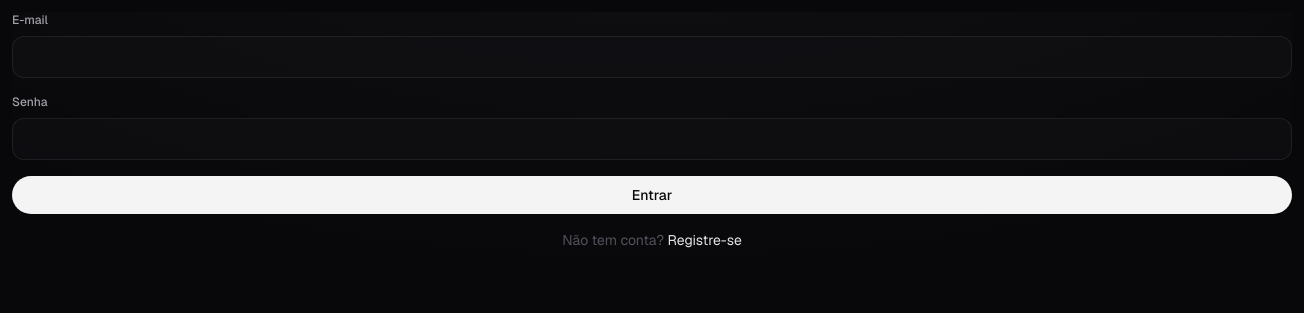
Test: LoginForm › exibe erros de validação para campos vazios
Click the button "Entrar" at (652, 195), box [12,176,1292,214]
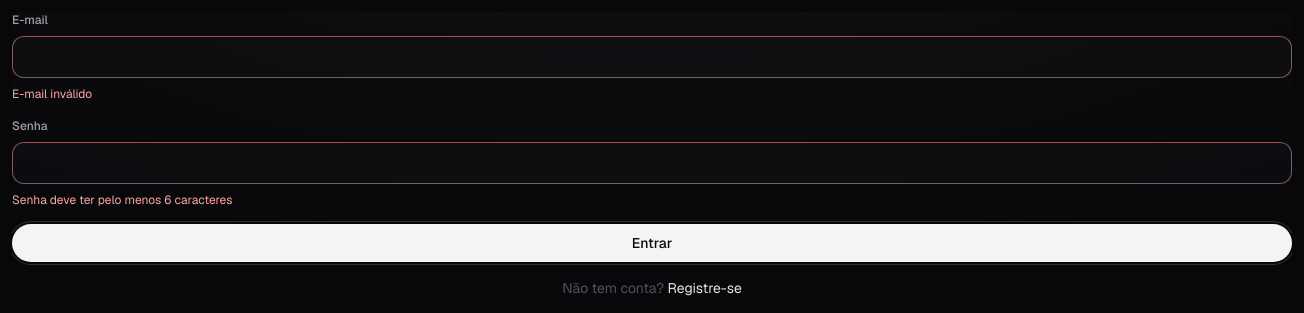
expect the text "E-mail inválido" is shown: met, box [12,86,92,102]
